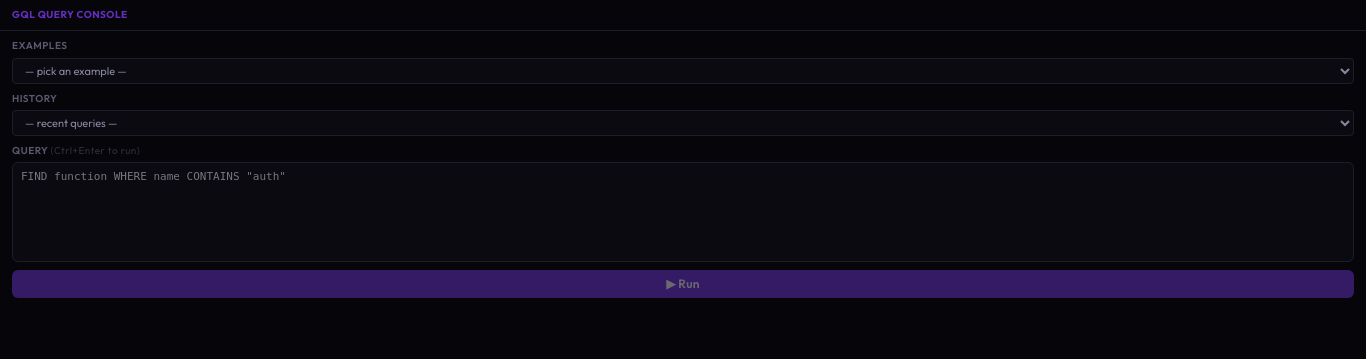
Test: QueryPanel › shows empty aggregate state
The width and height of the screenshot is (1366, 359).
Type "COUNT function WHERE name CONTAINS \"zzz\"" into the text box with placeholder "FIND function WHERE name CONTAINS \"auth\"" at [683, 212], box [12,162,1354,262]
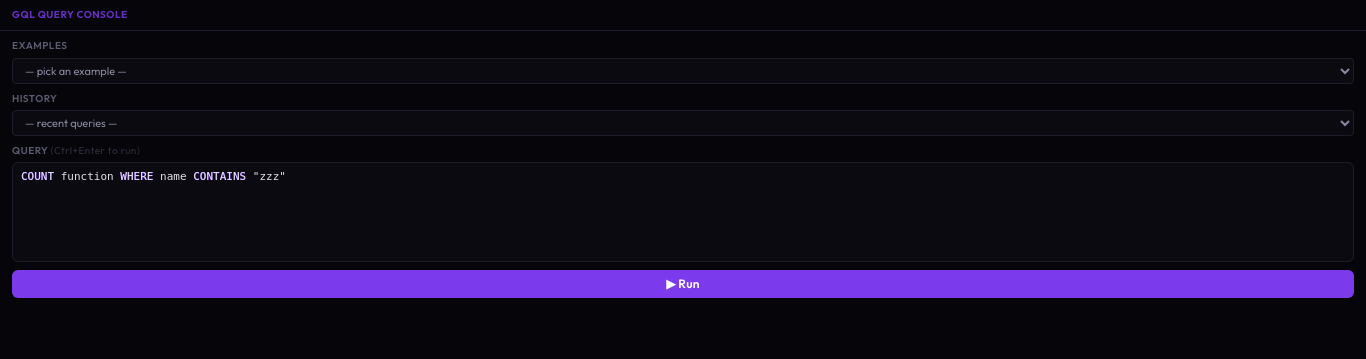
Click the button "▶ Run" at [683, 284], box [12,270,1354,298]
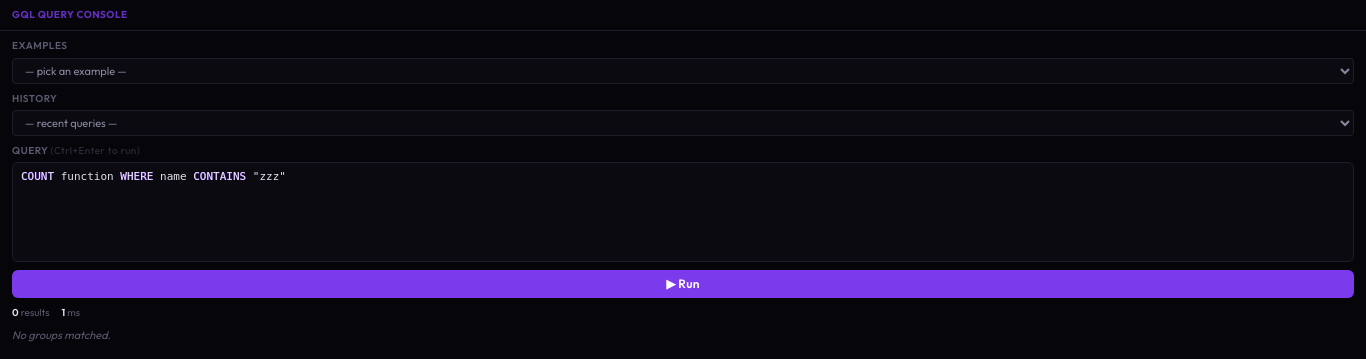
Expected: the text "No groups matched." is shown, [12,328,111,342]
